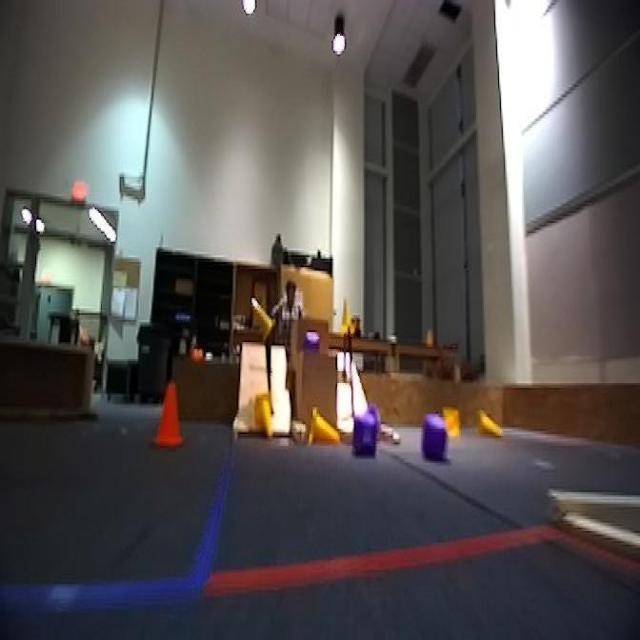frc_cone: (249, 291, 277, 342), (472, 407, 508, 446), (310, 408, 341, 449), (252, 392, 276, 442), (442, 405, 461, 434), (342, 300, 356, 337)
frc_cube: (422, 410, 448, 461), (354, 418, 374, 452), (302, 332, 323, 356)
